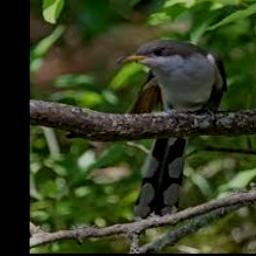Cuckoo: (116, 39, 227, 220)
